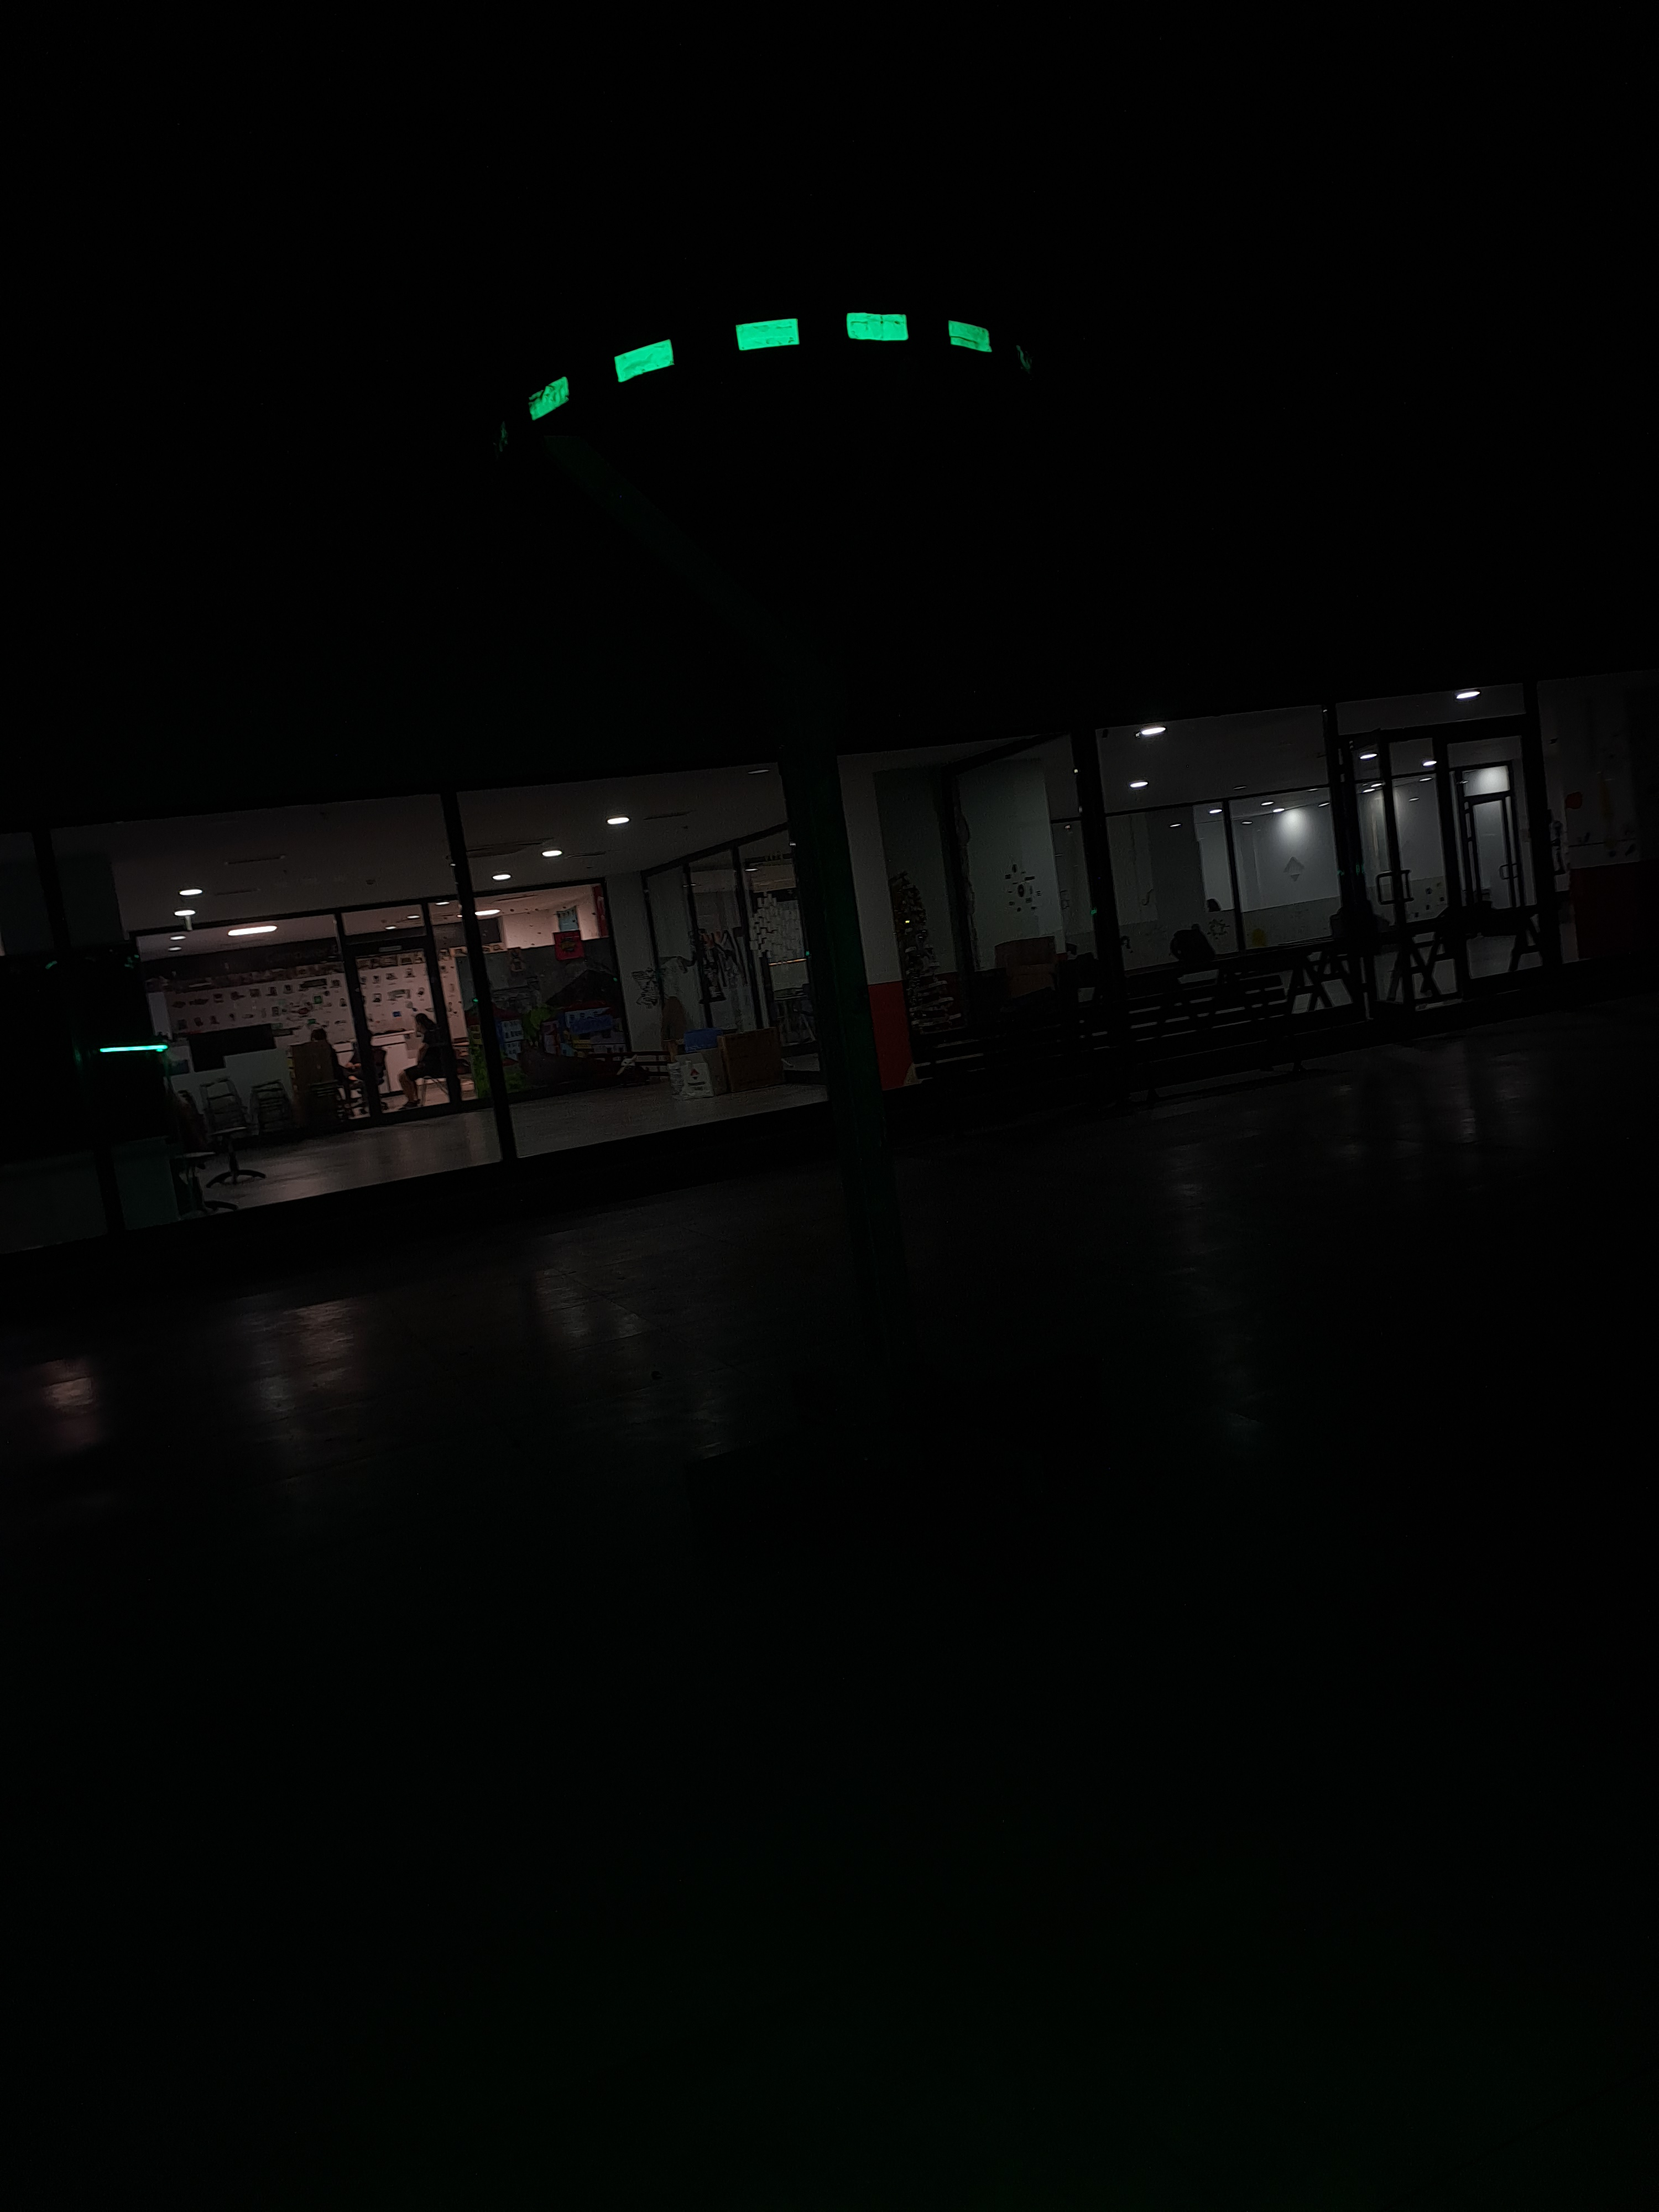hoop: (526, 305, 997, 428)
